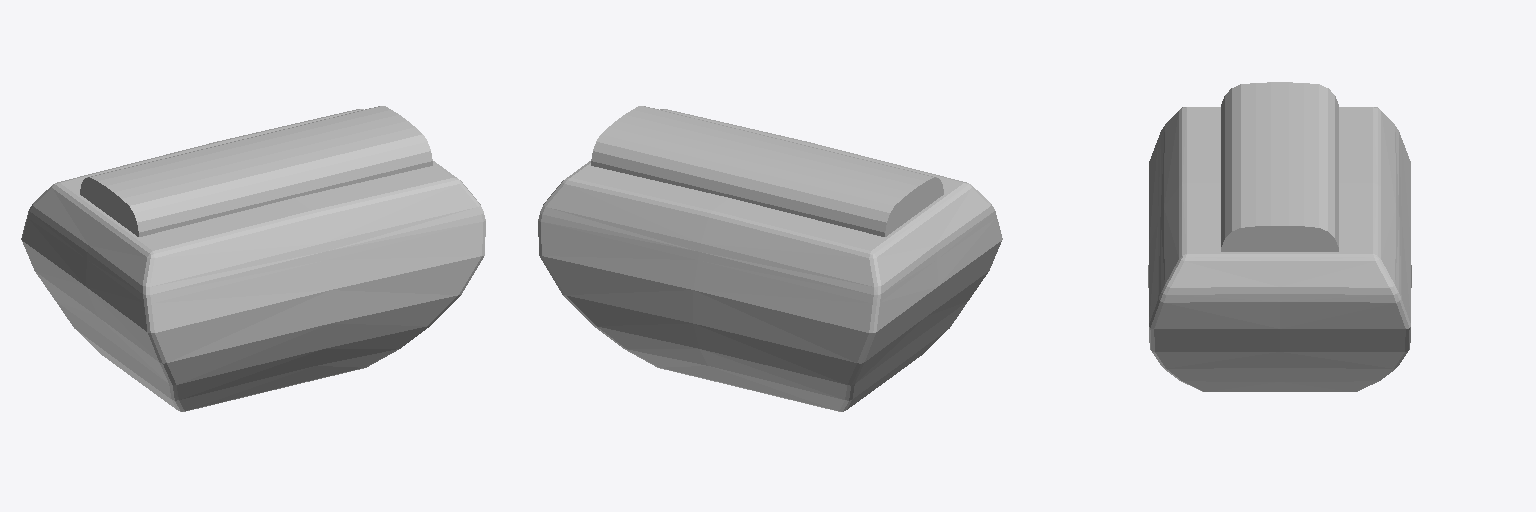
The picture shows the model from 3 angles: view 1: azimuth 30°, elevation 25°; view 2: azimuth 150°, elevation 25°; view 3: azimuth 270°, elevation 25°; orthographic projection.
Parts seen in each view (by area): view 1: exterior_door_latch_Cube.010; view 2: exterior_door_latch_Cube.010; view 3: exterior_door_latch_Cube.010.
Part boxes in pixels (x1,y1,x2,y2): exterior_door_latch_Cube.010: (21, 106, 485, 411); exterior_door_latch_Cube.010: (538, 106, 1002, 411); exterior_door_latch_Cube.010: (1148, 82, 1411, 391).
Bounding box in the file's own units: 0.03 × 0.0171 × 0.02.
Materials: 1 (1 with a texture image).